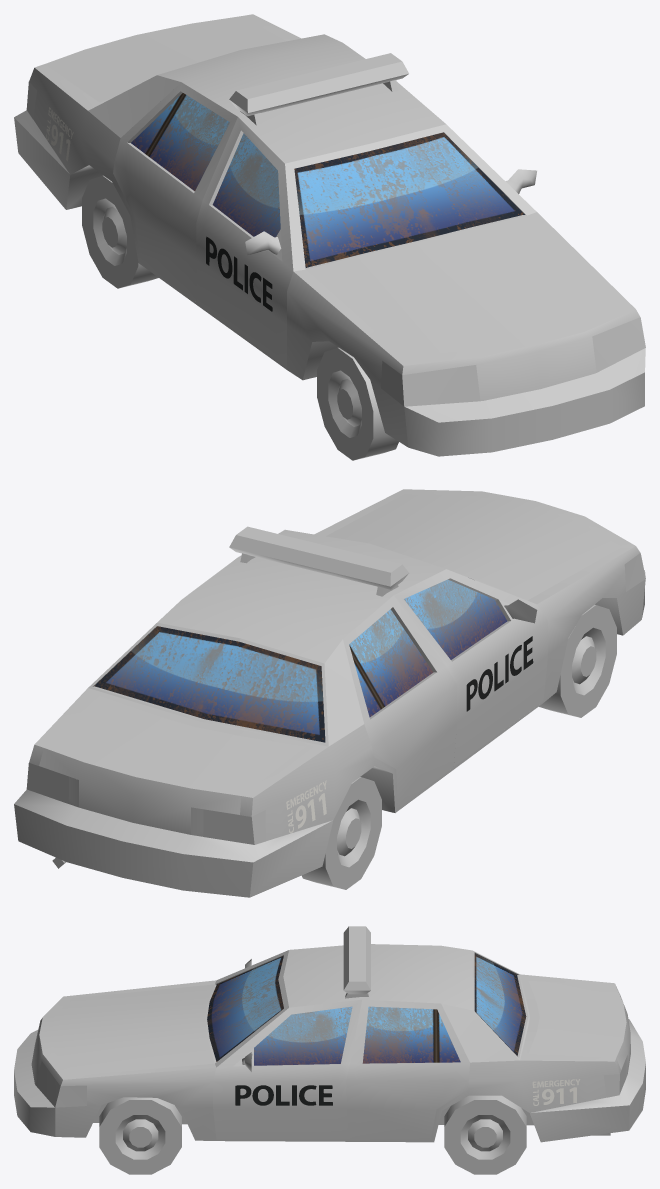
File: Veh_Police.FBX
3 renders of one model, top to bottom at view 1: azimuth 30°, elevation 25°; view 2: azimuth 150°, elevation 25°; view 3: azimuth 270°, elevation 25°, orthographic. The views are drawn at different scales.
Parts seen in each view (by area): view 1: Veh_Police, hood, glass_windshieldFront, door_frontR, door_backR, trunk, wheel_frontR, glass_backR, wheel_backR, glass_frontR, light_frontR, light_frontL (+2 smaller); view 2: Veh_Police, trunk, hood, glass_windshieldRear, door_frontR, door_backR, wheel_frontR, glass_backR, wheel_backR, glass_frontR, light_rearR, light_sirenBlue (+2 smaller); view 3: Veh_Police, door_frontL, hood, door_backL, trunk, wheel_backL, wheel_frontL, glass_windshieldFront, glass_backL, glass_frontL, glass_windshieldRear, light_frontL (+3 smaller).
Boxes of the visible parts, x1=… form: Veh_Police: x1=14, y1=14, x2=645, y2=456; hood: x1=306, y1=215, x2=621, y2=357; glass_windshieldFront: x1=294, y1=132, x2=524, y2=267; door_frontR: x1=196, y1=117, x2=293, y2=367; door_backR: x1=113, y1=82, x2=237, y2=301; trunk: x1=44, y1=16, x2=285, y2=102; wheel_frontR: x1=317, y1=347, x2=398, y2=460; glass_backR: x1=131, y1=93, x2=229, y2=191; wheel_backR: x1=82, y1=175, x2=158, y2=288; glass_frontR: x1=212, y1=133, x2=280, y2=237; light_frontR: x1=381, y1=361, x2=480, y2=406; light_frontL: x1=592, y1=317, x2=645, y2=372; Veh_Police: x1=14, y1=489, x2=645, y2=897; trunk: x1=39, y1=696, x2=305, y2=834; hood: x1=326, y1=494, x2=621, y2=600; glass_windshieldRear: x1=94, y1=626, x2=325, y2=742; door_frontR: x1=394, y1=569, x2=547, y2=766; door_backR: x1=343, y1=595, x2=457, y2=807; wheel_frontR: x1=539, y1=604, x2=616, y2=717; glass_backR: x1=349, y1=609, x2=433, y2=717; wheel_backR: x1=301, y1=777, x2=381, y2=889; glass_frontR: x1=404, y1=579, x2=507, y2=659; light_rearR: x1=203, y1=809, x2=265, y2=844; light_sirenBlue: x1=333, y1=551, x2=408, y2=586; Veh_Police: x1=14, y1=944, x2=645, y2=1142; door_frontL: x1=213, y1=999, x2=361, y2=1139; hood: x1=51, y1=984, x2=214, y2=1075; door_backL: x1=346, y1=999, x2=469, y2=1139; trunk: x1=528, y1=980, x2=630, y2=1073; wheel_backL: x1=444, y1=1095, x2=526, y2=1174; wheel_frontL: x1=99, y1=1097, x2=181, y2=1174; glass_windshieldFront: x1=207, y1=956, x2=283, y2=1061; glass_backL: x1=362, y1=1006, x2=460, y2=1063; glass_frontL: x1=254, y1=1006, x2=352, y2=1065; glass_windshieldRear: x1=474, y1=954, x2=526, y2=1056; light_frontL: x1=35, y1=1061, x2=86, y2=1107.
Size of the model in its own units: 206 by 163 by 526.
